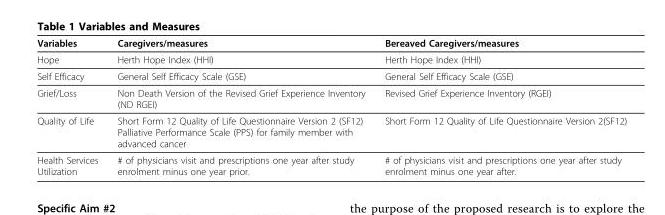table: (36, 36, 626, 176)
table column: (107, 36, 374, 176), (374, 36, 626, 176), (36, 36, 107, 176)
table column header: (36, 36, 626, 50)
table row: (36, 112, 626, 151), (36, 84, 626, 112), (36, 151, 626, 176), (36, 50, 626, 67), (36, 67, 626, 84), (36, 36, 626, 50)
